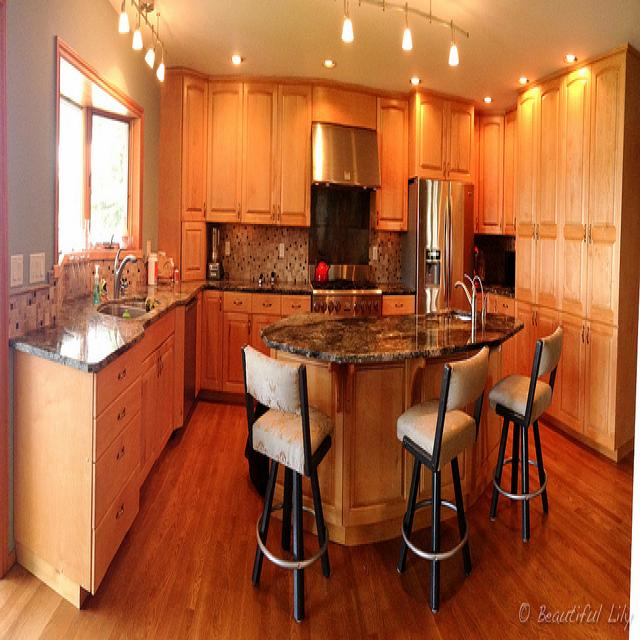chair: (244, 344, 337, 628), (393, 349, 488, 618), (488, 322, 564, 538)
